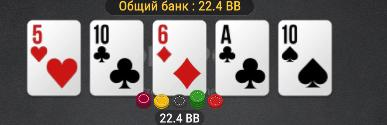10c: (90, 21, 143, 94)
10s: (280, 23, 331, 95)
5h: (28, 22, 80, 94)
6d: (154, 22, 205, 93)
Ac: (217, 22, 268, 94)
